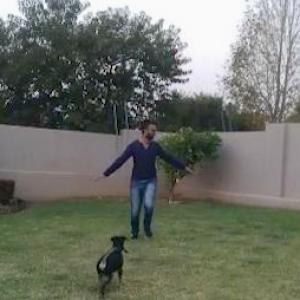land: (87, 120, 194, 234)
